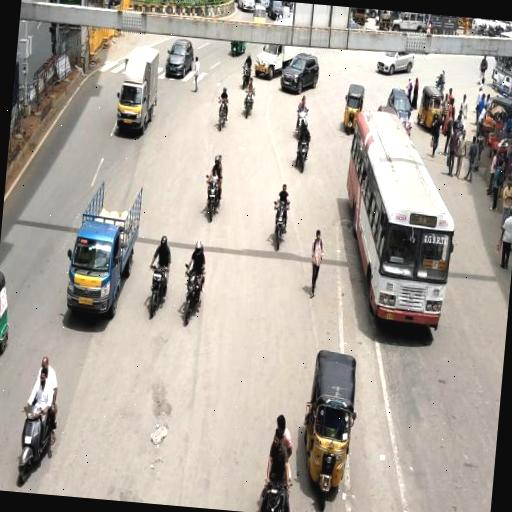helmet: (174, 236, 235, 330), (204, 152, 226, 223)
